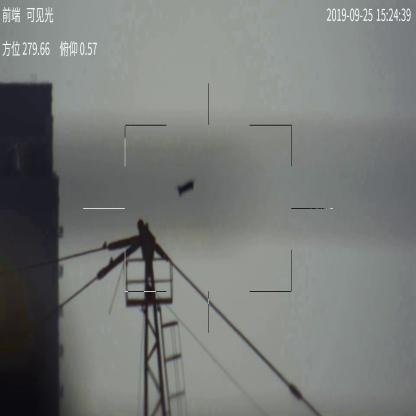uav: (177, 180, 194, 197)
